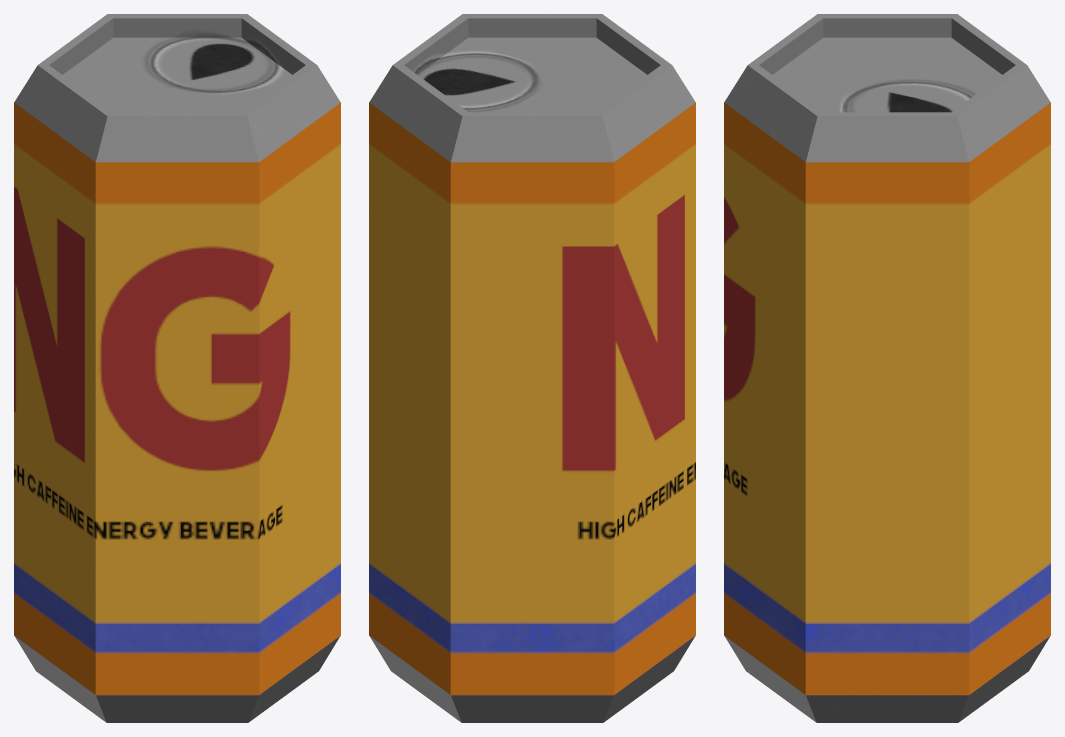
The model's file is mod_item_energyDrink.fbx.
3 renders of one model, left to right at view 1: azimuth 30°, elevation 25°; view 2: azimuth 150°, elevation 25°; view 3: azimuth 270°, elevation 25°, orthographic.
Parts seen in each view (by area): view 1: mesh_beerCan; view 2: mesh_beerCan; view 3: mesh_beerCan.
Boxes of the visible parts, bbox=[...] form: mesh_beerCan: bbox=[14, 14, 340, 722]; mesh_beerCan: bbox=[369, 14, 695, 722]; mesh_beerCan: bbox=[724, 14, 1050, 722].
Bounding box in the file's own units: 69.28 × 164 × 80.
